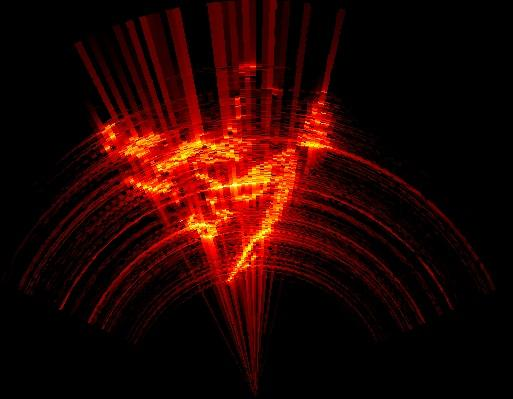shipwreck: (93, 93, 331, 281)
